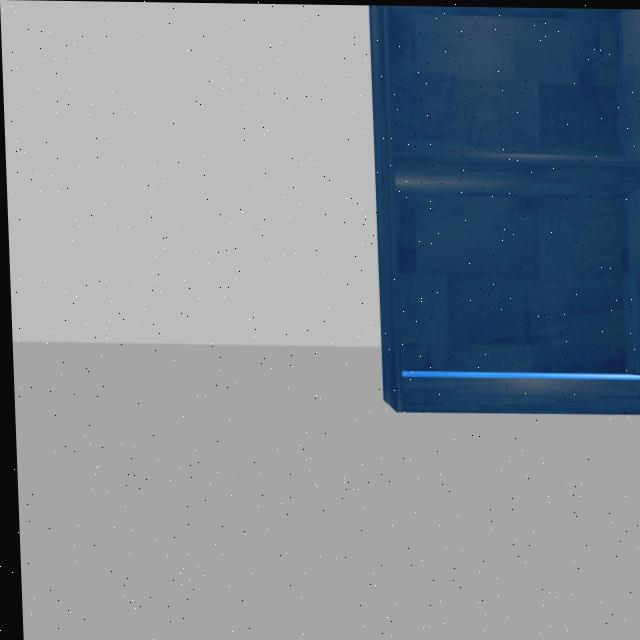shelf: (361, 4, 640, 442)
